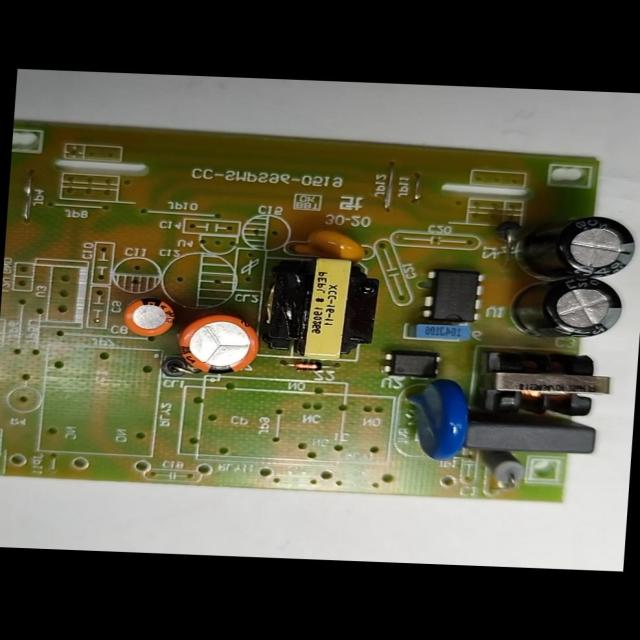Cap1: (171, 312, 266, 380)
Cap2: (119, 297, 177, 338)
Cap3: (508, 278, 628, 341)
Cap4: (512, 211, 640, 279)
MOSFET: (414, 266, 486, 325)
Mov: (391, 378, 474, 466)
Resistor: (474, 452, 526, 489)
Transformer: (262, 255, 382, 360), (475, 351, 618, 422)
